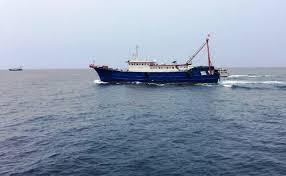Ship: (90, 38, 221, 85)
